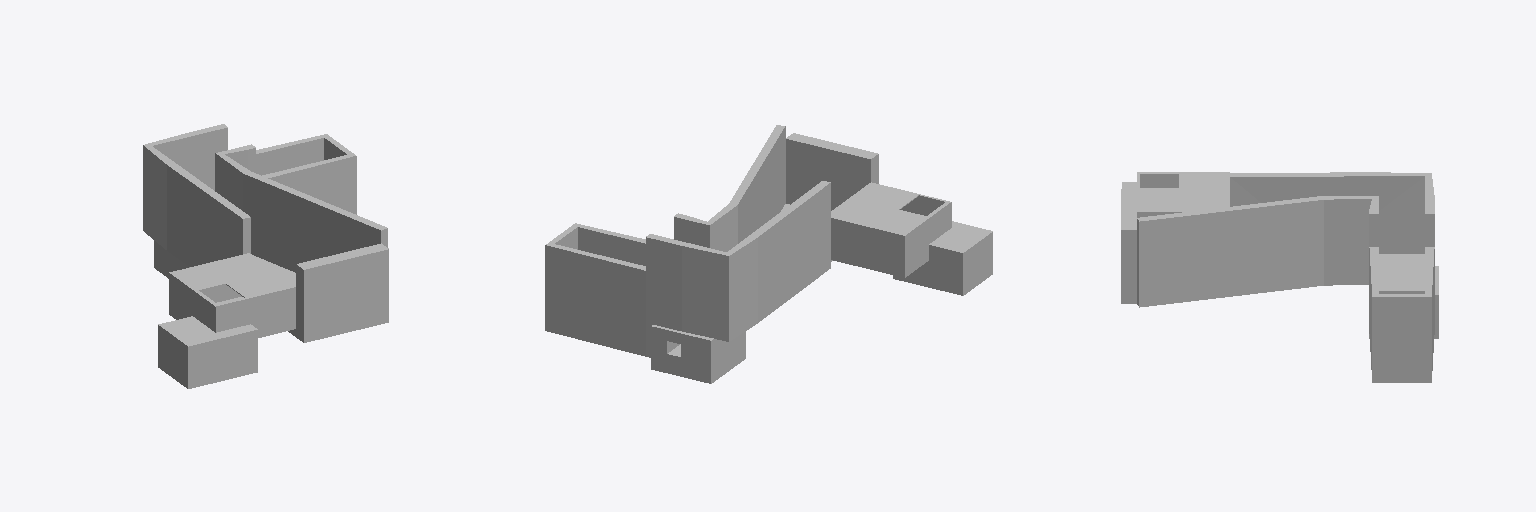
The model's file is Map0.obj.
The picture shows the model from 3 angles: view 1: azimuth 30°, elevation 25°; view 2: azimuth 150°, elevation 25°; view 3: azimuth 270°, elevation 25°; orthographic projection.
Parts seen in each view (by area): view 1: ResultMap_Map_MESH; view 2: ResultMap_Map_MESH; view 3: ResultMap_Map_MESH.
Boxes of the visible parts, box(x1,y1,x2,y2) form: ResultMap_Map_MESH: box(143, 124, 388, 388); ResultMap_Map_MESH: box(545, 125, 992, 383); ResultMap_Map_MESH: box(1121, 172, 1438, 382).
Bounding box in the file's own units: 36.41 × 15.3 × 34.16.